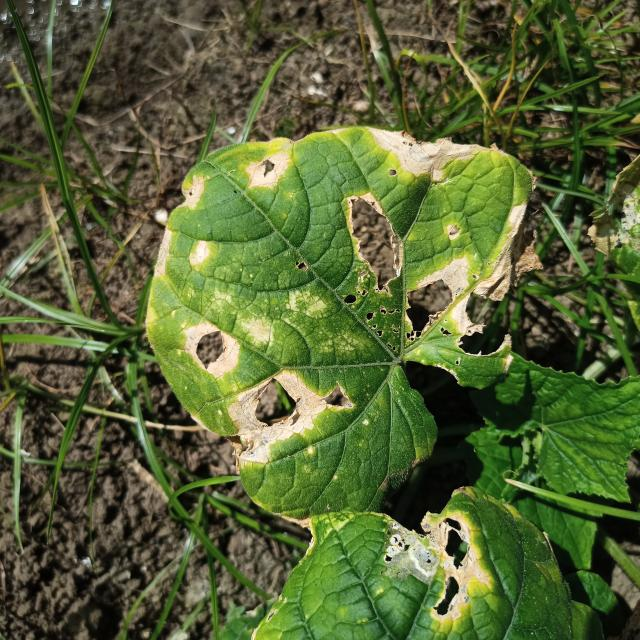disease_cucumber: (151, 125, 501, 474), (394, 506, 499, 624)
